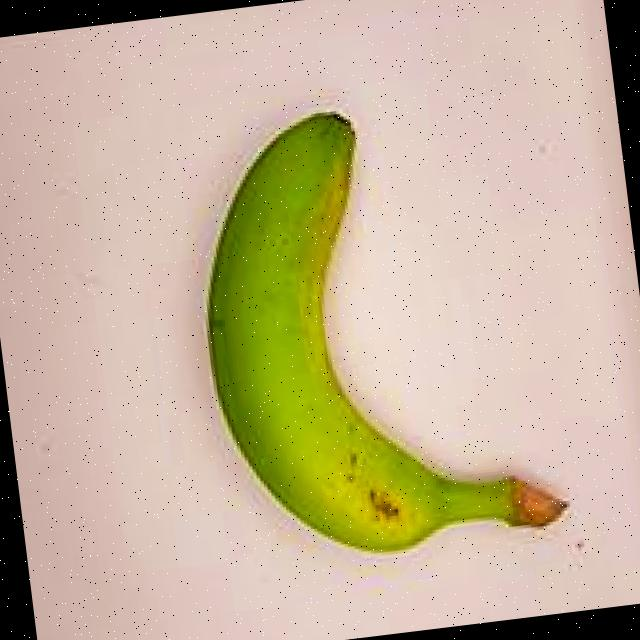Unripe: (146, 53, 596, 608)
